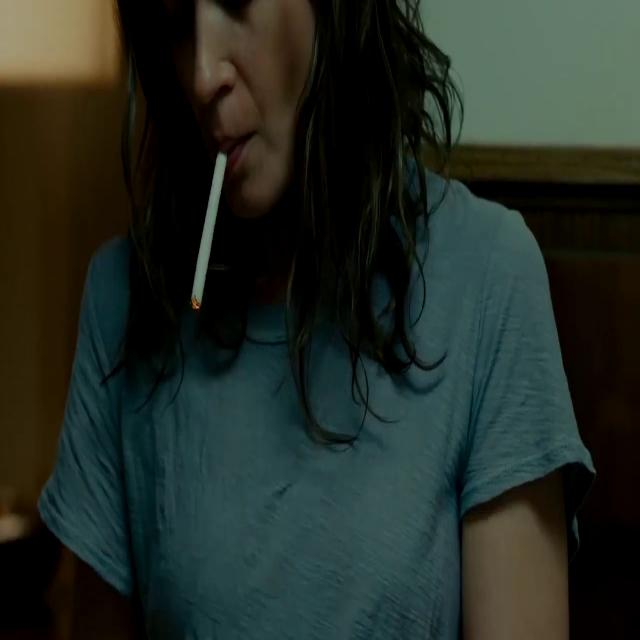Smooking: (178, 147, 236, 320)
